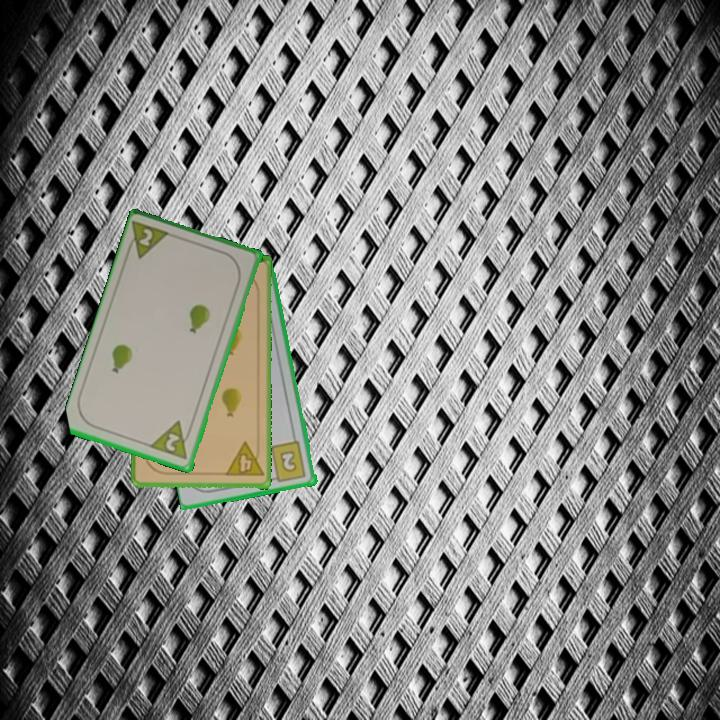2b: (267, 438, 309, 485)
2p: (122, 218, 175, 263), (148, 417, 196, 463)
4p: (222, 440, 266, 479)
